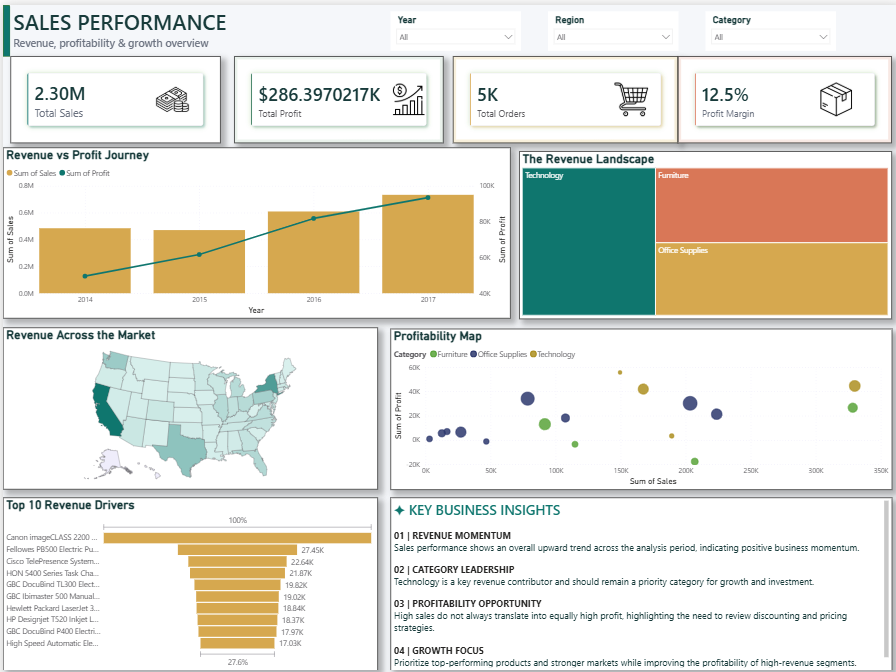

Layout of this report page (visuals, bound fields, positions):
{"tool":"powerbi","page":{"name":"Page 1","canvas":[1600,1200],"ordinal":0},"visuals":[{"type":"textbox","box":[13.3,0,453.3,91.7],"z":0},{"type":"shape","box":[0,0,13.1,91.8],"z":1000},{"type":"cardVisual","fields":{"Data":["Superstore_Sales.Total Sales"]},"box":[13.1,91.8,373.8,154.1],"z":2000},{"type":"cardVisual","fields":{"Data":["Superstore_Sales.Total Profit"]},"box":[411.5,91.8,372.1,154.1],"z":3000},{"type":"cardVisual","fields":{"Data":["Superstore_Sales.Total Orders"]},"box":[800,92,400,154],"z":4000},{"type":"cardVisual","fields":{"Data":["Superstore_Sales.Profit Margin"]},"box":[1200,92,380,154],"z":5000},{"type":"lineClusteredColumnComboChart","title":"Revenue vs Profit Journey","fields":{"Category":["Superstore_Sales.Order Date.Variation.Date Hierarchy.Year","Superstore_Sales.Order Date.Variation.Date Hierarchy.Month"],"Y":["Sum(Superstore_Sales.Sales)"],"Y2":["Sum(Superstore_Sales.Profit)"]},"box":[0,254,902,304],"z":6000},{"type":"treemap","title":"The Revenue Landscape","fields":{"Group":["Superstore_Sales.Category"],"Values":["Sum(Superstore_Sales.Sales)"]},"box":[918,260,662,298],"z":7000},{"type":"scatterChart","title":"Profitability Map","fields":{"X":["Sum(Superstore_Sales.Sales)"],"Y":["Sum(Superstore_Sales.Profit)"],"Series":["Superstore_Sales.Category"],"Size":["CountNonNull(Superstore_Sales.Quantity)"],"Category":["Superstore_Sales.Sub-Category"]},"box":[688,576,892,286],"z":8000},{"type":"shapeMap","title":"Revenue Across the Market","fields":{"Category":["Superstore_Sales.State"],"Value":["Sum(Superstore_Sales.Sales)"]},"box":[0,574,666,288],"z":10001},{"type":"funnel","title":"Top 10 Revenue Drivers","fields":{"Category":["Superstore_Sales.Product Name"],"Y":["Sum(Superstore_Sales.Sales)"]},"box":[0,876,666,308],"z":10002},{"type":"textbox","box":[688,876,892,308],"z":10003},{"type":"slicer","fields":{"Values":["Superstore_Sales.Order Date.Variation.Date Hierarchy.Year"]},"box":[688.3,11.7,231.7,70],"z":10004},{"type":"slicer","fields":{"Values":["Superstore_Sales.Region"]},"box":[968.3,11.7,231.7,70],"z":10005},{"type":"slicer","fields":{"Values":["Superstore_Sales.Category"]},"box":[1248.3,11.7,231.7,70],"z":10006},{"type":"image","box":[688.9,137.8,64.4,60],"z":10008},{"type":"image","box":[268.9,137.8,64.4,60],"z":10009},{"type":"image","box":[1084.4,137.8,64.4,60],"z":10010},{"type":"image","box":[1448.9,137.8,64.4,60],"z":10011}]}

Visuals, with their boxes in screenshot pixels (x1, y1, x2, y2), scaled from the page's 1600x1200 canvas onto the 896x672 screenshot:
textbox: bbox(7, 0, 261, 51)
shape: bbox(0, 0, 7, 51)
cardVisual - Superstore_Sales.Total Sales: bbox(7, 51, 217, 138)
cardVisual - Superstore_Sales.Total Profit: bbox(230, 51, 439, 138)
cardVisual - Superstore_Sales.Total Orders: bbox(448, 52, 672, 138)
cardVisual - Superstore_Sales.Profit Margin: bbox(672, 52, 885, 138)
"Revenue vs Profit Journey" lineClusteredColumnComboChart: bbox(0, 142, 505, 312)
"The Revenue Landscape" treemap: bbox(514, 146, 885, 312)
"Profitability Map" scatterChart: bbox(385, 323, 885, 483)
"Revenue Across the Market" shapeMap: bbox(0, 321, 373, 483)
"Top 10 Revenue Drivers" funnel: bbox(0, 491, 373, 663)
textbox: bbox(385, 491, 885, 663)
slicer - Superstore_Sales.Order Date.Variation.Date Hierarchy.Year: bbox(385, 7, 515, 46)
slicer - Superstore_Sales.Region: bbox(542, 7, 672, 46)
slicer - Superstore_Sales.Category: bbox(699, 7, 829, 46)
image: bbox(386, 77, 422, 111)
image: bbox(151, 77, 187, 111)
image: bbox(607, 77, 643, 111)
image: bbox(811, 77, 847, 111)
